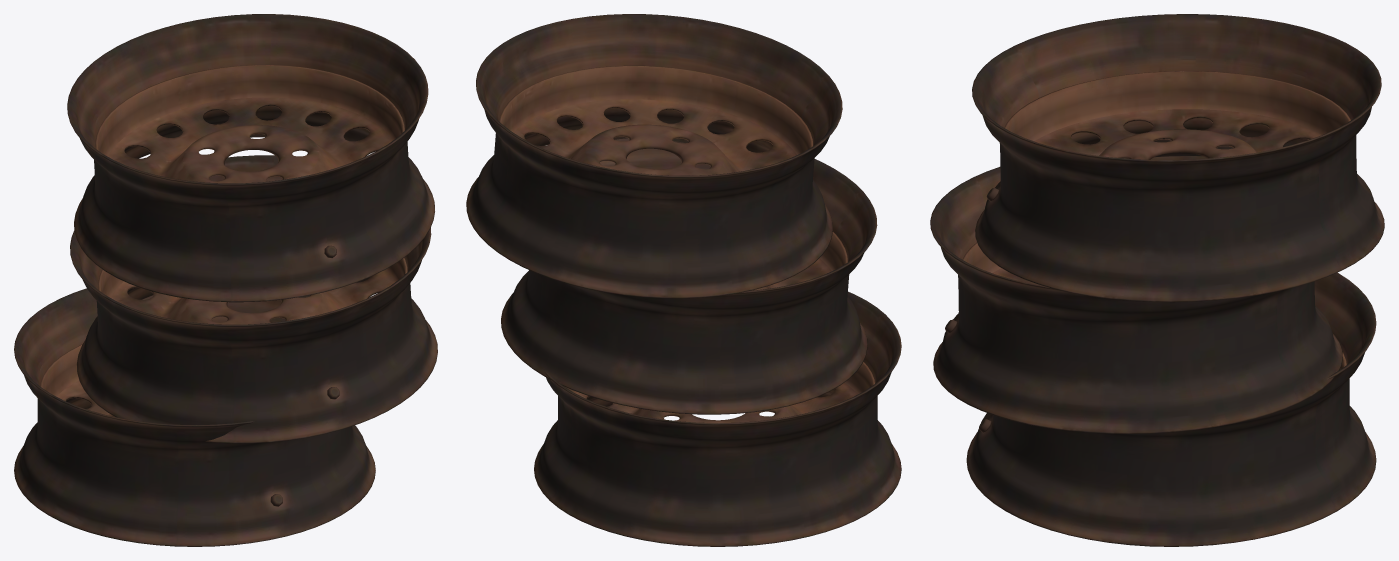
The model's file is car_rims.gltf.
3 renders of one model, left to right at view 1: azimuth 30°, elevation 25°; view 2: azimuth 150°, elevation 25°; view 3: azimuth 270°, elevation 25°, orthographic. The views are drawn at different scales.
Visible parts, largest first — view 1: rusted_wheel_rim_01.002, rusted_wheel_rim_01.001, rusted_wheel_rim_01; view 2: rusted_wheel_rim_01.002, rusted_wheel_rim_01, rusted_wheel_rim_01.001; view 3: rusted_wheel_rim_01.002, rusted_wheel_rim_01.001, rusted_wheel_rim_01.
Part boxes in pixels (box(x1,y1,x2,y2)): rusted_wheel_rim_01.002: box(67, 14, 434, 302); rusted_wheel_rim_01.001: box(70, 155, 437, 443); rusted_wheel_rim_01: box(14, 288, 375, 546); rusted_wheel_rim_01.002: box(466, 14, 842, 298); rusted_wheel_rim_01: box(534, 291, 901, 546); rusted_wheel_rim_01.001: box(501, 138, 877, 414); rusted_wheel_rim_01.002: box(972, 14, 1384, 302); rusted_wheel_rim_01.001: box(930, 156, 1342, 433); rusted_wheel_rim_01: box(966, 272, 1376, 546).
Size of the model in its own units: 0.4208 by 0.3937 by 0.3886.
Materials: 1 (1 with a texture image).
